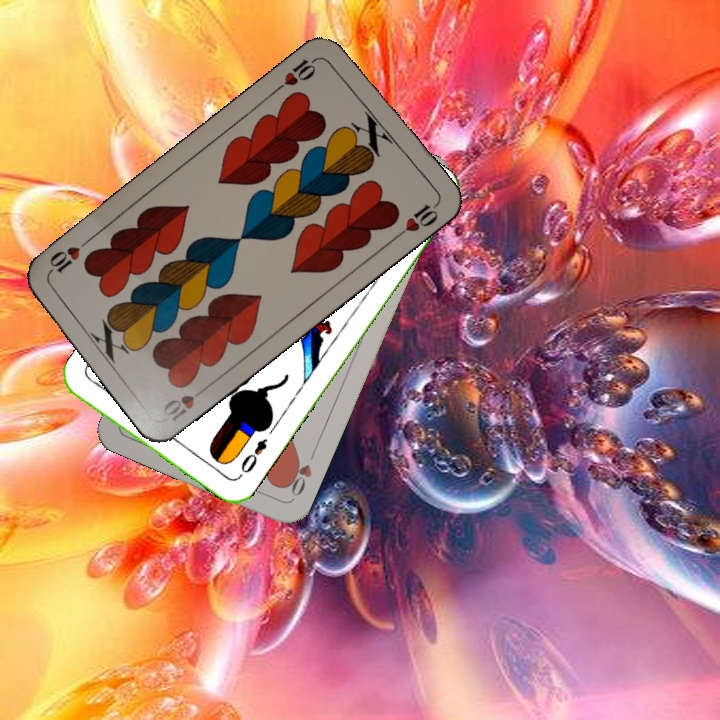EO: (236, 434, 270, 477)
H10: (158, 381, 212, 425), (272, 53, 322, 94)
HO: (281, 453, 315, 499)
